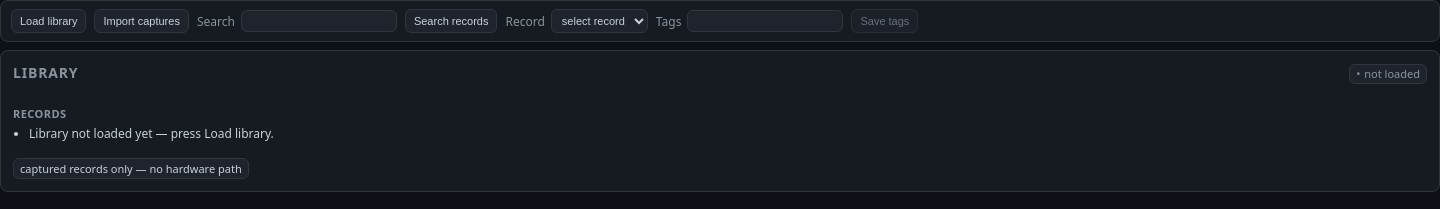
LibraryPanel (interactive) › surfaces rejected listing acks (message + fallback) and send failures
Click the button with test id "library-load". click: [49, 21]
box: left=11, top=9, right=86, bottom=33
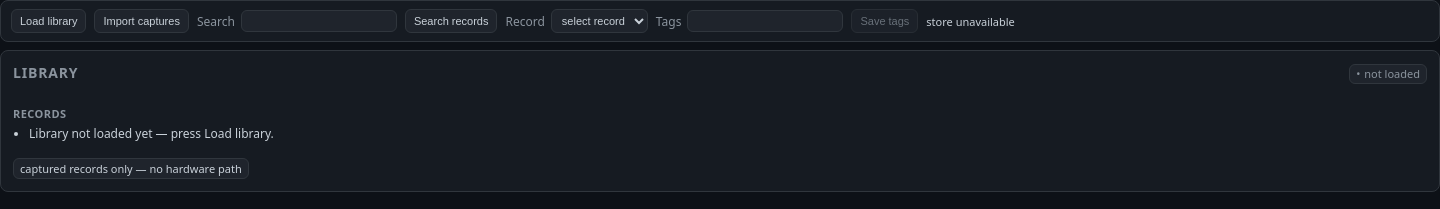
Check: the text "store unavailable" is shown, box left=926, top=14, right=1015, bottom=28
Click the button with test id "library-load". click: [49, 21]
box: left=11, top=9, right=86, bottom=33
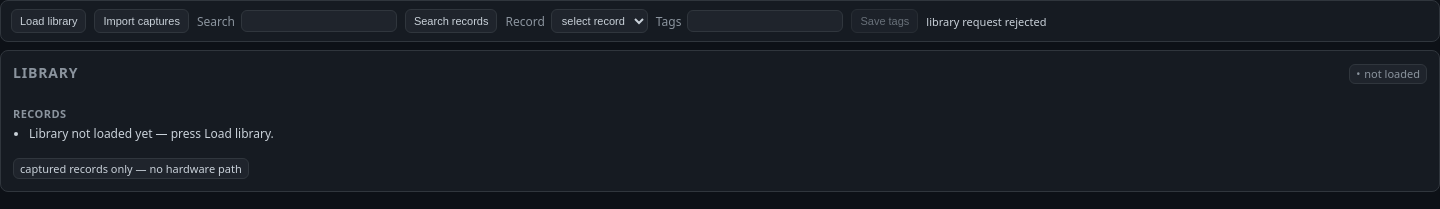
Check: the text "library request rejected" is shown, box left=926, top=14, right=1046, bottom=28
Click the button with test id "library-load". click: [49, 21]
box: left=11, top=9, right=86, bottom=33
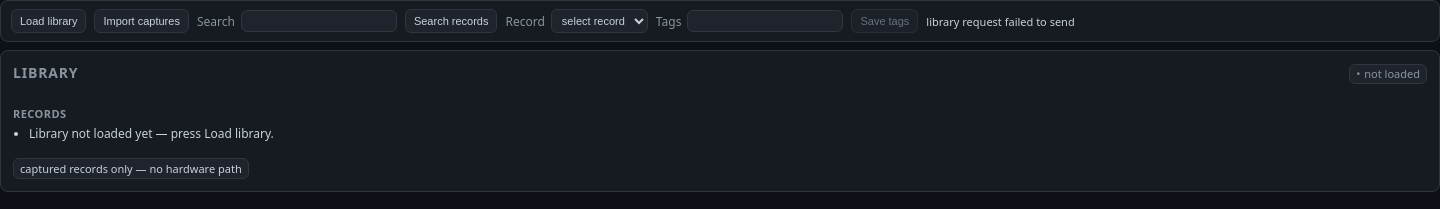
Check: the text "library request failed to send" is shown, box left=926, top=14, right=1075, bottom=28
